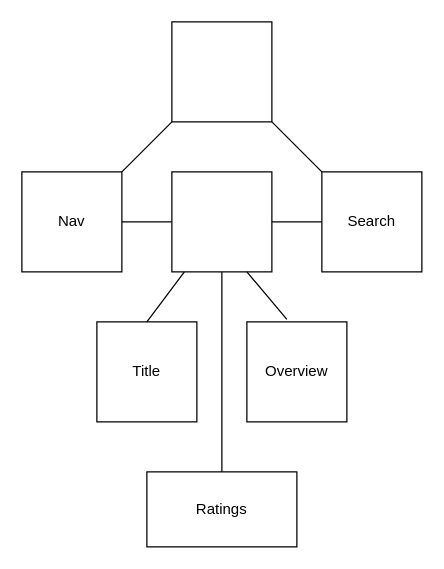
Some shapes in this 444 by 569 pixel diagram are drawn without their labels. The centre of each missing label's shape, as x and y in pixels:
App: (221,71)
Image: (221,221)
